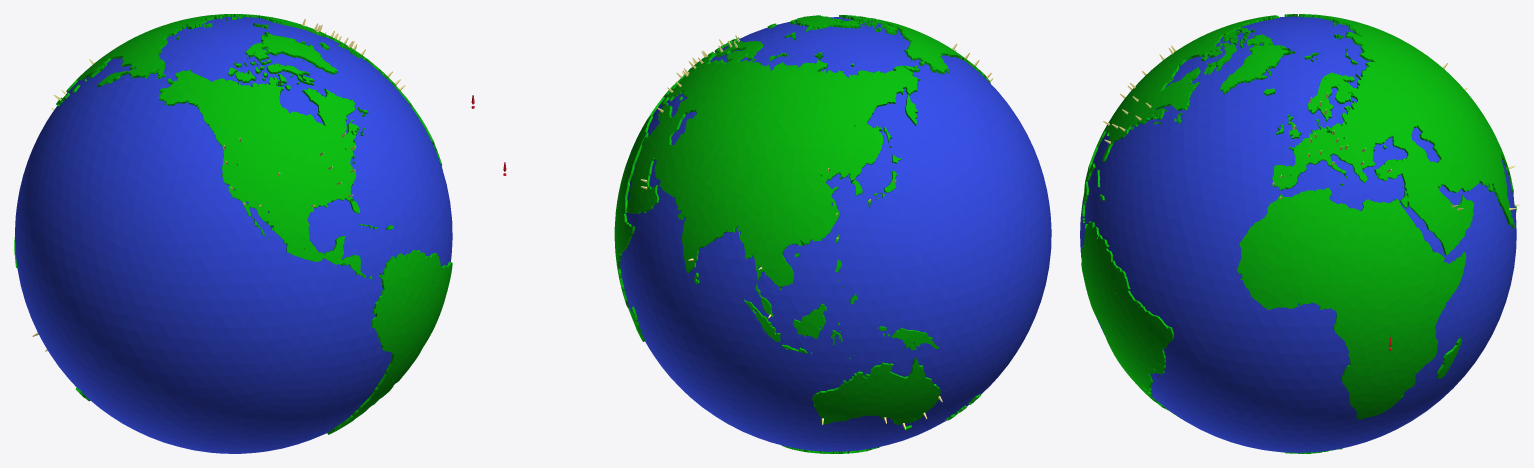
The model's file is planet1copy.gltf.
3 views of the same model, side by side, from view 1: azimuth 30°, elevation 25°; view 2: azimuth 150°, elevation 25°; view 3: azimuth 270°, elevation 25° (orthographic).
Parts seen in each view (by area): view 1: Sphere, Cube; view 2: Sphere, Cube; view 3: Sphere, Cube.
Boxes of the visible parts, x1,y1,x2,y2 form: Sphere: (14, 14, 452, 453); Cube: (32, 19, 405, 351); Sphere: (614, 15, 1051, 453); Cube: (640, 35, 993, 429); Sphere: (1080, 14, 1516, 453); Cube: (1103, 45, 1519, 210).
Bounding box in the file's own units: 23.54 × 18.89 × 18.87.
